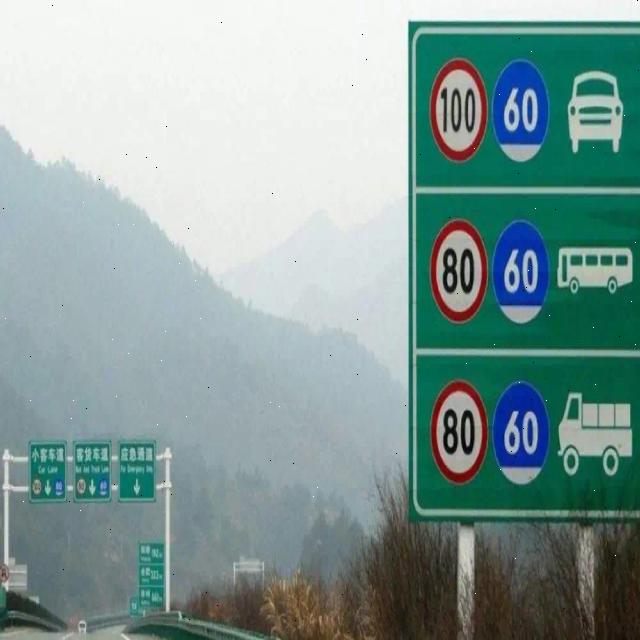speed limit 100: (428, 59, 488, 165)
speed limit 60: (492, 379, 550, 485), (492, 221, 550, 325), (492, 60, 549, 163)
speed limit 80: (430, 218, 488, 327), (429, 378, 488, 484)
